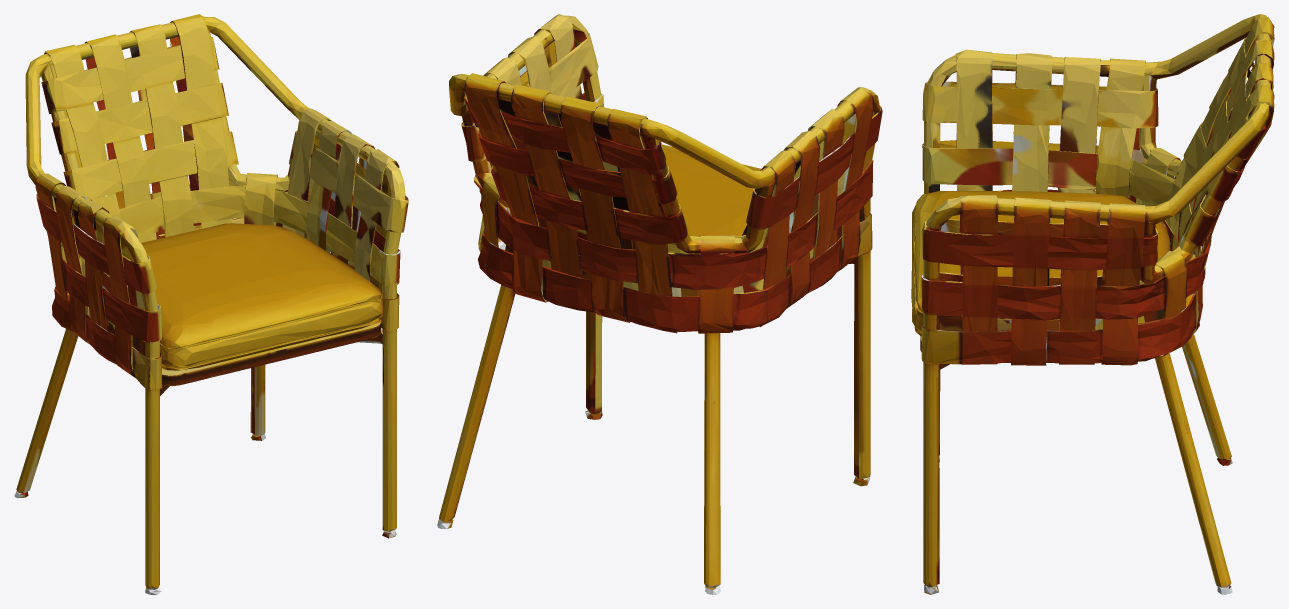
Rendered from edited_mesh.glb.
3 views of the same model, side by side, from view 1: azimuth 30°, elevation 25°; view 2: azimuth 150°, elevation 25°; view 3: azimuth 270°, elevation 25° (orthographic). The views are drawn at different scales.
Visible parts, largest first — view 1: solid_001_wire; view 2: solid_001_wire; view 3: solid_001_wire.
Part boxes in pixels (x1,y1,x2,y2): solid_001_wire: (14,14,408,594); solid_001_wire: (437,14,882,594); solid_001_wire: (911,14,1274,594).
Bounding box in the file's own units: 1.04 × 1.48 × 1.04.
Materials: 1 (1 with a texture image).
